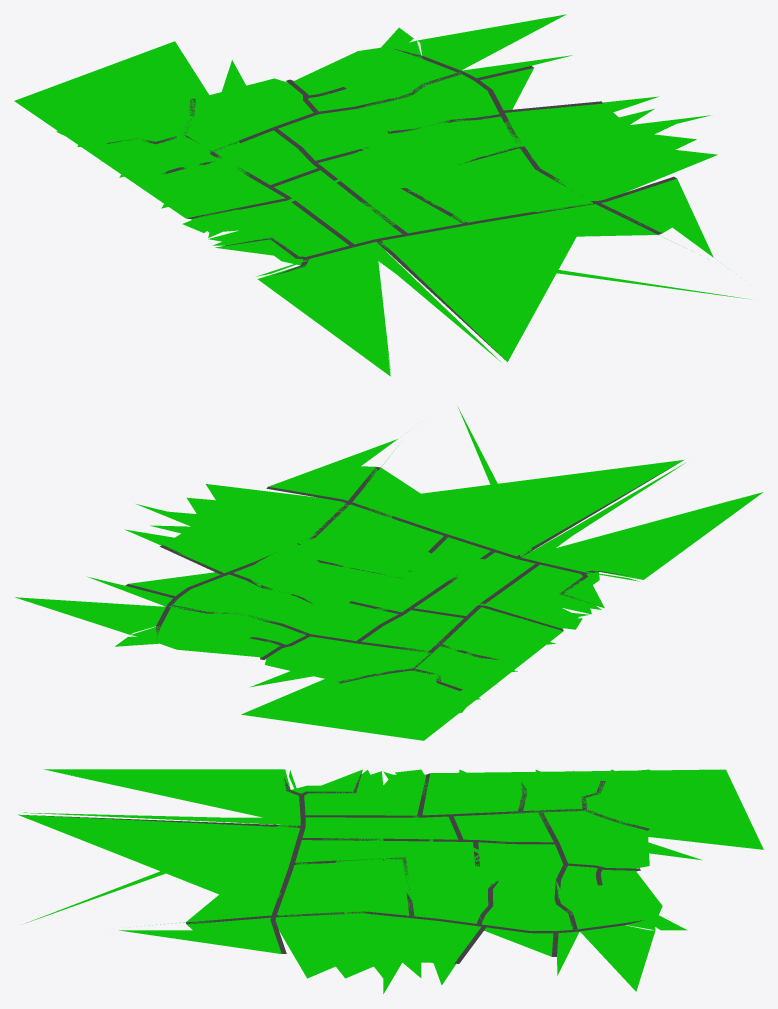
3 views of the same model, one above another, from view 1: azimuth 30°, elevation 25°; view 2: azimuth 150°, elevation 25°; view 3: azimuth 270°, elevation 25° (orthographic). The views are drawn at different scales.
Bounding box in the file's own units: 420 × 2.3 × 591.
